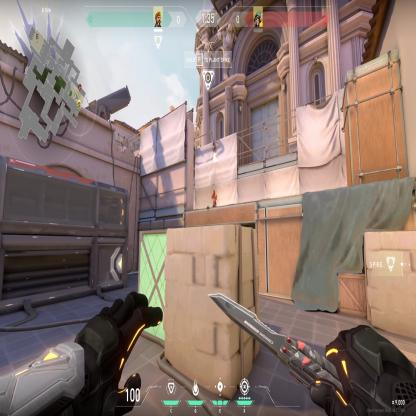enemy: (211, 188, 217, 208)
